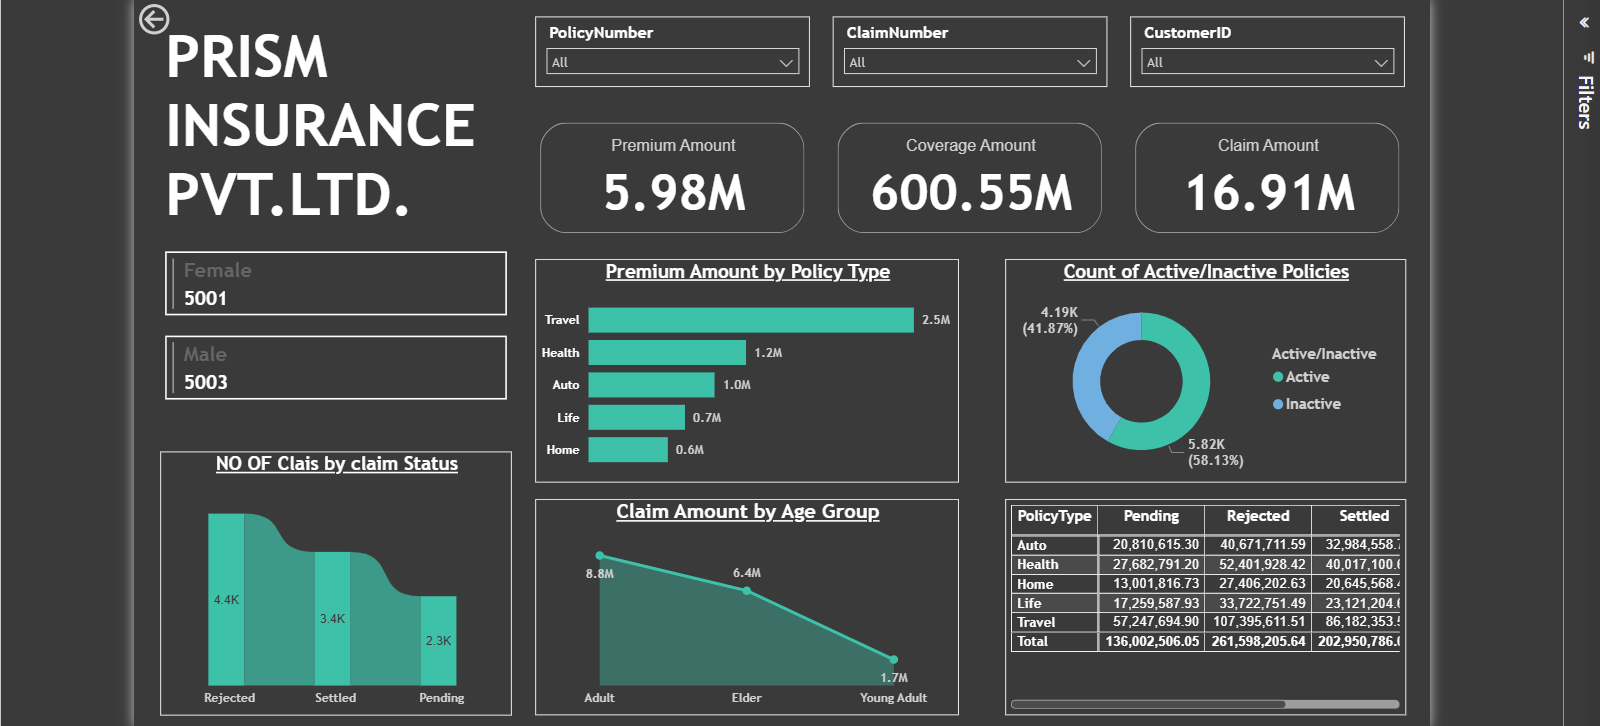

This screenshot's page, from the dashboard's own definition file:
{"tool":"powerbi","page":{"name":"Page 1","canvas":[1280,720],"ordinal":0},"visuals":[{"type":"slicer","fields":{"Values":["InsuranceData.PolicyNumber"]},"box":[395.7,16.9,271.4,70],"z":0},{"type":"slicer","fields":{"Values":["InsuranceData.ClaimNumber"]},"box":[690.1,16.9,271.4,70],"z":1000},{"type":"slicer","fields":{"Values":["InsuranceData.CustomerID"]},"box":[984.5,16.9,271.4,70],"z":2000},{"type":"textbox","box":[25.3,16.9,335.4,219.6],"z":3000},{"type":"cardVisual","fields":{"Data":["Sum(InsuranceData.PremiumAmount)"]},"box":[395.7,117,271.4,119.4],"z":4000},{"type":"cardVisual","fields":{"Data":["Sum(InsuranceData.CoverageAmount)"]},"box":[690.1,117,271.4,119.4],"z":5000},{"type":"cardVisual","fields":{"Data":["Sum(InsuranceData.ClaimAmount)"]},"box":[984.5,117,271.4,119.4],"z":6000},{"type":"multiRowCard","fields":{"Values":["InsuranceData.Gender","CountNonNull(InsuranceData.Gender)"]},"box":[25.3,244.9,347.4,188.2],"z":7000},{"type":"ribbonChart","title":"NO OF Clais by claim Status ","fields":{"Category":["InsuranceData.ClaimStatus"],"Y":["CountNonNull(InsuranceData.ClaimStatus)"]},"box":[25.3,446.4,347.4,260.6],"z":8000},{"type":"barChart","title":"Premium Amount by Policy Type","fields":{"Category":["InsuranceData.PolicyType"],"Y":["Sum(InsuranceData.PremiumAmount)"]},"box":[395.7,257,418.6,220.8],"z":9000},{"type":"donutChart","title":"Count of Active/Inactive Policies","fields":{"Category":["InsuranceData.Active/Inactive"],"Y":["CountNonNull(InsuranceData.Active/Inactive)"]},"box":[860.2,257,395.7,220.8],"z":10000},{"type":"lineChart","title":"Claim Amount by Age Group","fields":{"Category":["InsuranceData.Age Group"],"Y":["Sum(InsuranceData.ClaimAmount)"]},"box":[395.7,493.4,418.6,213.5],"z":11000},{"type":"pivotTable","fields":{"Values":["Sum(InsuranceData.CoverageAmount)"],"Rows":["InsuranceData.PolicyType"],"Columns":["InsuranceData.ClaimStatus"]},"box":[860.2,493.4,395.7,213.5],"z":11001},{"type":"actionButton","box":[0,0,100,40],"z":11002}]}

Visuals, with their boxes on the page's 1280x720 design canvas (x1, y1, x2, y2). These are canvas units, not pixel positions in the 1600x726 screenshot, which may show the page scaled, cropped or inside an application window:
slicer - InsuranceData.PolicyNumber: bbox=[396, 17, 667, 87]
slicer - InsuranceData.ClaimNumber: bbox=[690, 17, 962, 87]
slicer - InsuranceData.CustomerID: bbox=[984, 17, 1256, 87]
textbox: bbox=[25, 17, 361, 236]
cardVisual - Sum(InsuranceData.PremiumAmount): bbox=[396, 117, 667, 236]
cardVisual - Sum(InsuranceData.CoverageAmount): bbox=[690, 117, 962, 236]
cardVisual - Sum(InsuranceData.ClaimAmount): bbox=[984, 117, 1256, 236]
multiRowCard - InsuranceData.Gender x CountNonNull(InsuranceData.Gender): bbox=[25, 245, 373, 433]
"NO OF Clais by claim Status " ribbonChart: bbox=[25, 446, 373, 707]
"Premium Amount by Policy Type" barChart: bbox=[396, 257, 814, 478]
"Count of Active/Inactive Policies" donutChart: bbox=[860, 257, 1256, 478]
"Claim Amount by Age Group" lineChart: bbox=[396, 493, 814, 707]
pivotTable - Sum(InsuranceData.CoverageAmount) x InsuranceData.PolicyType: bbox=[860, 493, 1256, 707]
actionButton: bbox=[0, 0, 100, 40]
